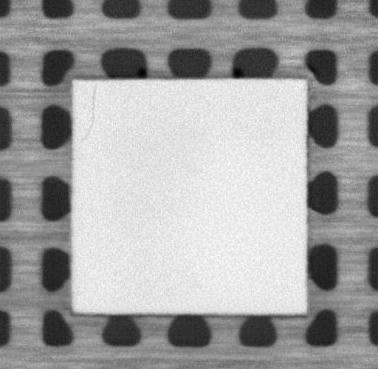DIE_CRACK: (81, 83, 100, 141)
